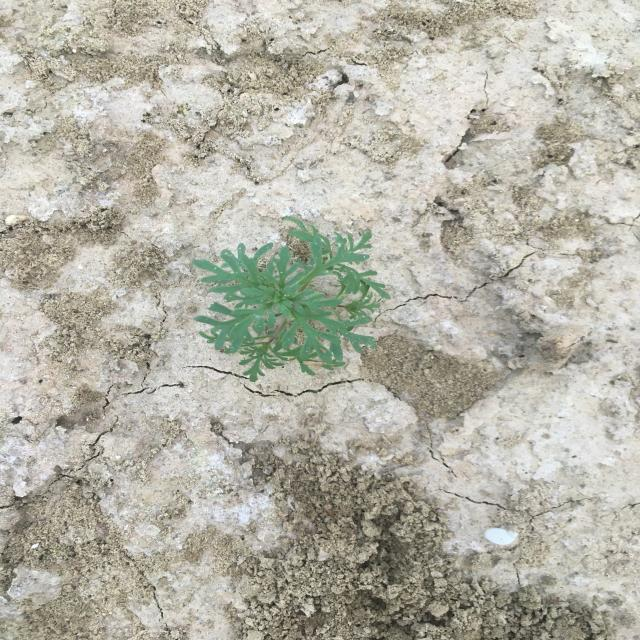Ragweed: (191, 213, 394, 384)
